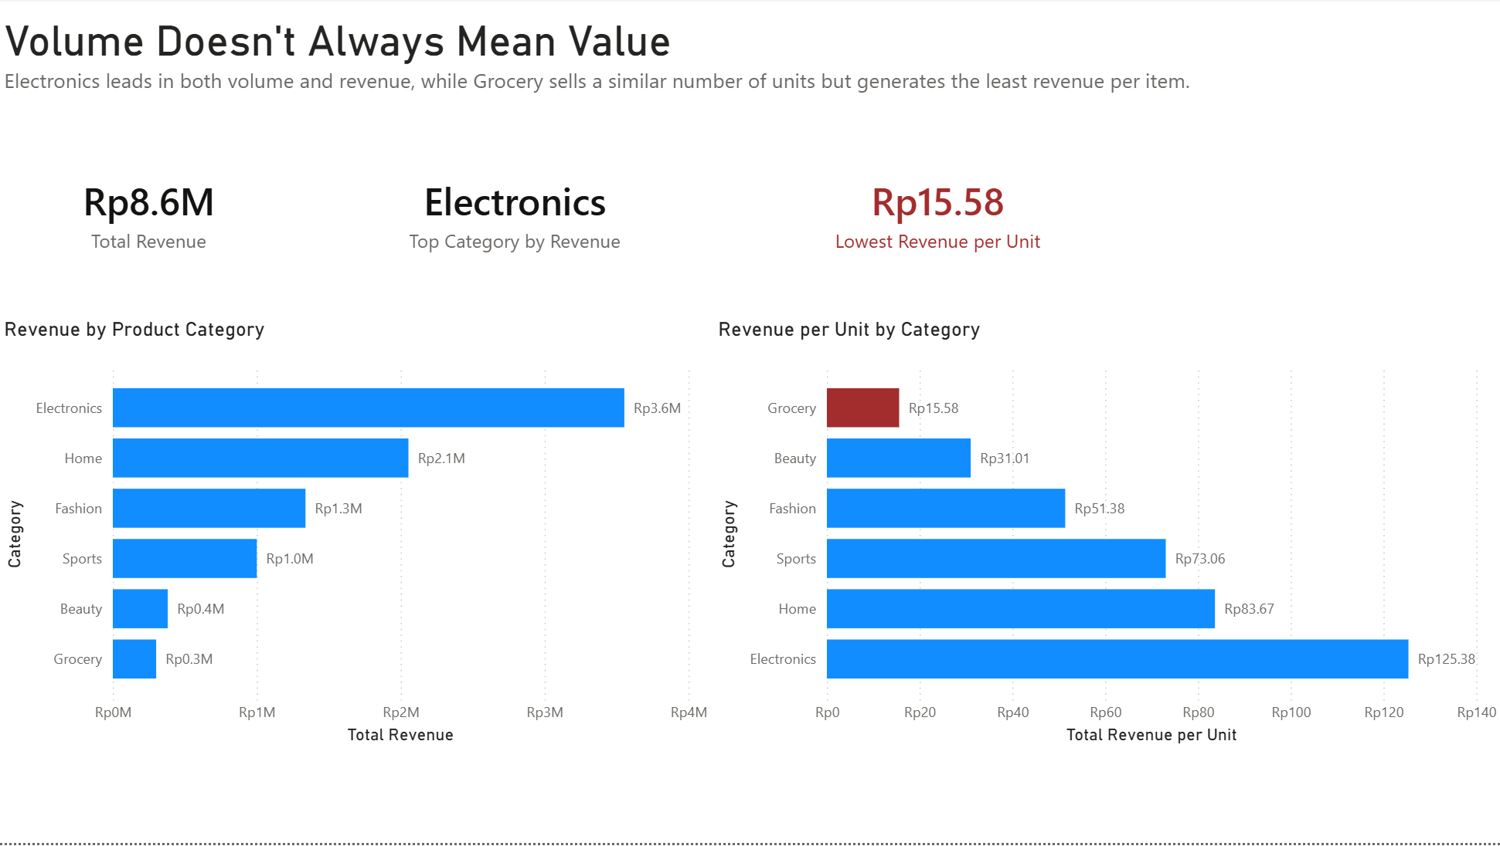

The page's visual inventory and layout, read from the dashboard file:
{"tool":"powerbi","page":{"name":"Category","canvas":[1280,720],"ordinal":4},"visuals":[{"type":"textbox","title":"Volume Doesn''t Always Mean Value","box":[0,16,1264,112],"z":0},{"type":"cardVisual","fields":{"Data":["Sum(q2_organic_vs_campaign_revenue.total_revenue)"]},"box":[0,96,256,176],"z":1000},{"type":"cardVisual","fields":{"Data":["Min(q4_revenue_per_category.category)"]},"box":[256,96,368,176],"z":2000},{"type":"cardVisual","fields":{"Data":["Min(q4_revenue_per_unit_by_category.revenue_per_unit)"]},"box":[624,96,352,176],"z":3000},{"type":"clusteredBarChart","title":"Revenue by Product Category","fields":{"Y":["Sum(q4_revenue_per_category.total_revenue)"],"Category":["q4_revenue_per_category.category"]},"box":[0,272,608,368],"z":4000},{"type":"clusteredBarChart","title":"Revenue per Unit by Category","fields":{"Category":["q4_revenue_per_unit_by_category.category"],"Y":["Sum(q4_revenue_per_unit_by_category.revenue_per_unit)"]},"box":[608,272,672,368],"z":5000}]}

Visuals, with their boxes in screenshot pixels (x1, y1, x2, y2), scaled from the page's 1280x720 canvas onto the 1500x846 screenshot:
"Volume Doesn''t Always Mean Value" textbox: <region>0, 19, 1481, 150</region>
cardVisual - Sum(q2_organic_vs_campaign_revenue.total_revenue): <region>0, 113, 300, 320</region>
cardVisual - Min(q4_revenue_per_category.category): <region>300, 113, 731, 320</region>
cardVisual - Min(q4_revenue_per_unit_by_category.revenue_per_unit): <region>731, 113, 1144, 320</region>
"Revenue by Product Category" clusteredBarChart: <region>0, 320, 712, 752</region>
"Revenue per Unit by Category" clusteredBarChart: <region>712, 320, 1499, 752</region>
